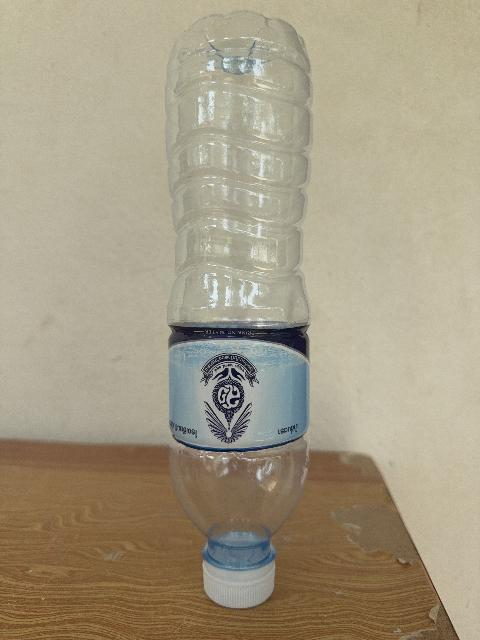bottle: (167, 12, 311, 607)
